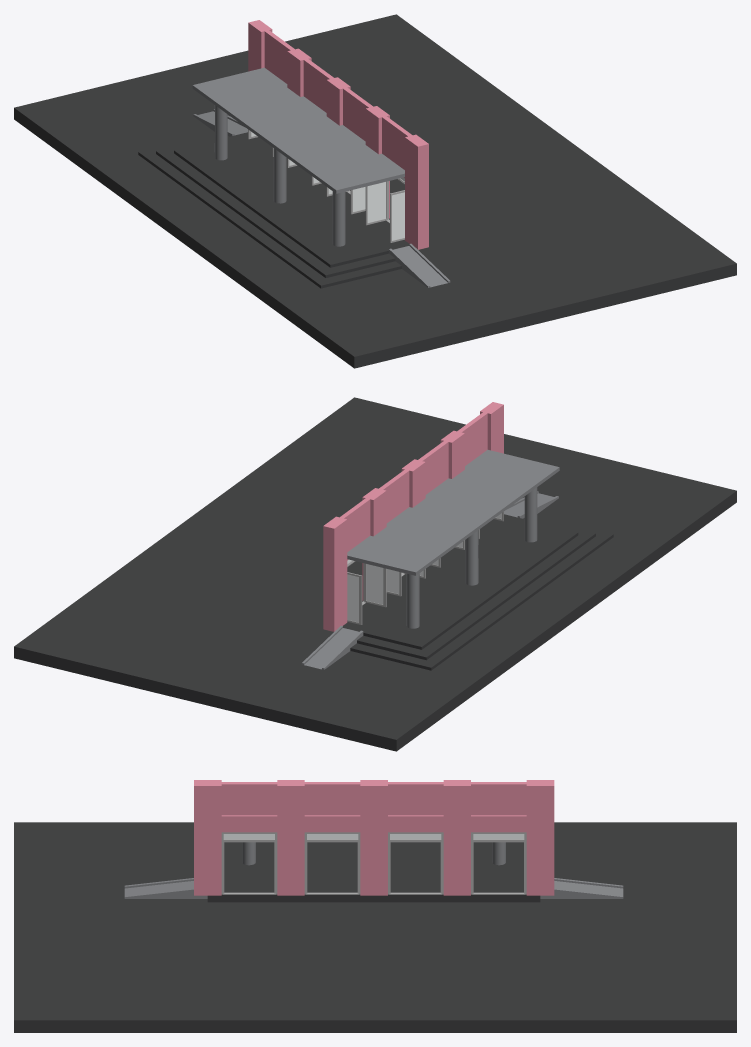
The model's file is EntranceOld.glb.
3 views of the same model, one above another, from view 1: azimuth 30°, elevation 25°; view 2: azimuth 150°, elevation 25°; view 3: azimuth 270°, elevation 25° (orthographic). The views are drawn at different scales.
Parts seen in each view (by area): view 1: オブジェクト_55, オブジェクト_60, オブジェクト_64, オブジェクト_277, オブジェクト_63, オブジェクト_164, オブジェクト_165, オブジェクト_162, オブジェクト_163, オブジェクト_276, オブジェクト_271, オブジェクト_272 (+6 smaller); view 2: オブジェクト_55, オブジェクト_60, オブジェクト_64, オブジェクト_276, オブジェクト_62, オブジェクト_165, オブジェクト_163, オブジェクト_164, オブジェクト_162, オブジェクト_277, オブジェクト_273, オブジェクト_272 (+5 smaller); view 3: オブジェクト_55, オブジェクト_60, オブジェクト_276, オブジェクト_271, オブジェクト_272, オブジェクト_273, オブジェクト_277, オブジェクト_162, オブジェクト_163, オブジェクト_164, オブジェクト_165, オブジェクト_62 (+5 smaller).
Boxes of the visible parts, x1,y1,x2,y2 form: オブジェクト_55: (14, 14, 736, 368); オブジェクト_60: (138, 132, 408, 288); オブジェクト_64: (192, 67, 404, 193); オブジェクト_277: (405, 134, 428, 249); オブジェクト_63: (389, 243, 450, 287); オブジェクト_164: (303, 59, 333, 112); オブジェクト_165: (264, 30, 294, 83); オブジェクト_162: (382, 116, 412, 178); オブジェクト_163: (343, 87, 372, 141); オブジェクト_276: (248, 20, 272, 71); オブジェクト_271: (365, 106, 389, 218); オブジェクト_272: (326, 77, 350, 125); オブジェクト_55: (14, 397, 736, 751); オブジェクト_60: (343, 514, 613, 670); オブジェクト_64: (347, 449, 559, 575); オブジェクト_276: (323, 516, 347, 631); オブジェクト_62: (301, 625, 363, 669); オブジェクト_165: (340, 498, 370, 560); オブジェクト_163: (418, 441, 448, 494); オブジェクト_164: (379, 469, 409, 523); オブジェクト_162: (457, 412, 487, 465); オブジェクト_277: (480, 402, 503, 453); オブジェクト_273: (362, 488, 386, 600); オブジェクト_272: (401, 459, 425, 507); オブジェクト_55: (14, 822, 736, 1032); オブジェクト_60: (180, 842, 567, 902); オブジェクト_276: (526, 780, 554, 895); オブジェクト_271: (277, 780, 304, 895); オブジェクト_272: (360, 780, 387, 895); オブジェクト_273: (443, 780, 470, 895); オブジェクト_277: (194, 780, 221, 895); オブジェクト_162: (221, 782, 277, 832); オブジェクト_163: (304, 782, 360, 832); オブジェクト_164: (388, 782, 443, 832); オブジェクト_165: (471, 782, 526, 832); オブジェクト_62: (540, 878, 623, 898).
Size of the model in its own units: 17.06 by 5.27 by 26.3.
